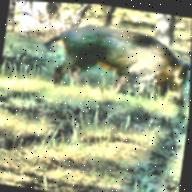boar: (38, 15, 192, 115)
